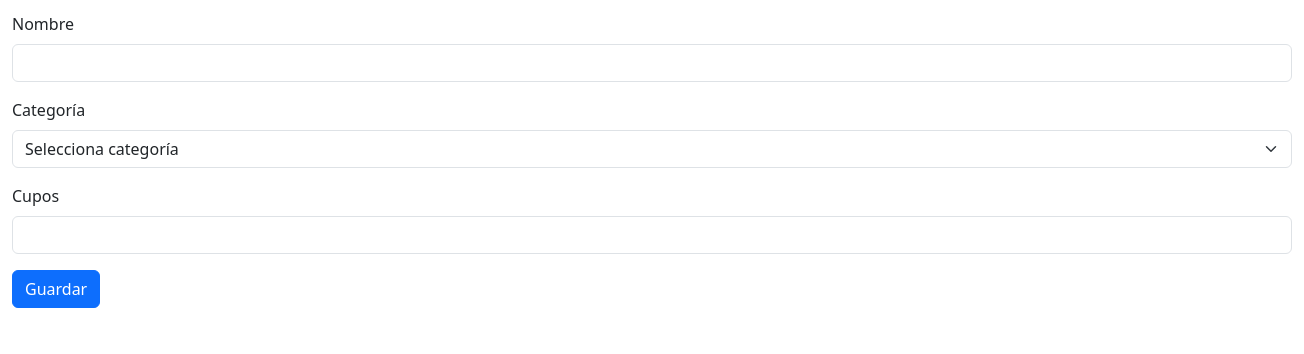
Test case: FormularioActividad › rechaza un número negativo de cupos
Type "Taller de prueba" into the field labelled "Nombre" at x=652, y=63, box [12,44,1292,82]
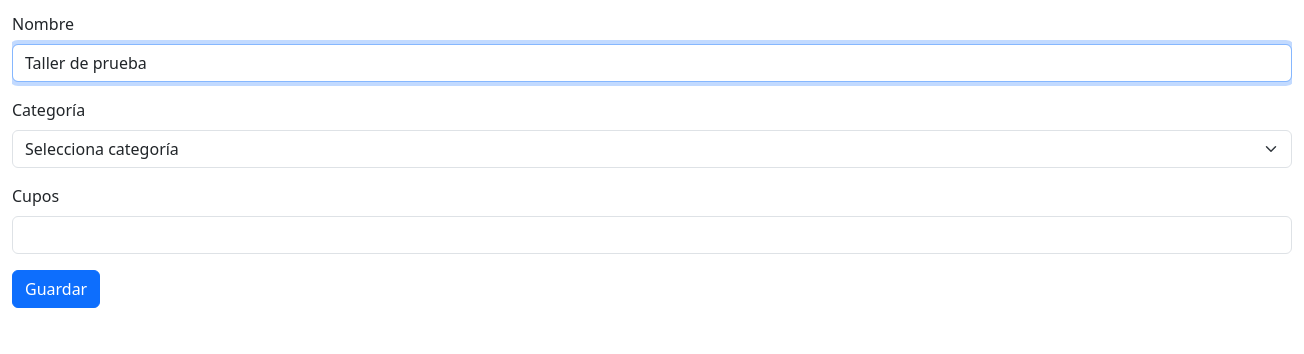
Select "Cultura" in the dropdown labelled "Categoría" at x=652, y=149, box [12,130,1292,168]
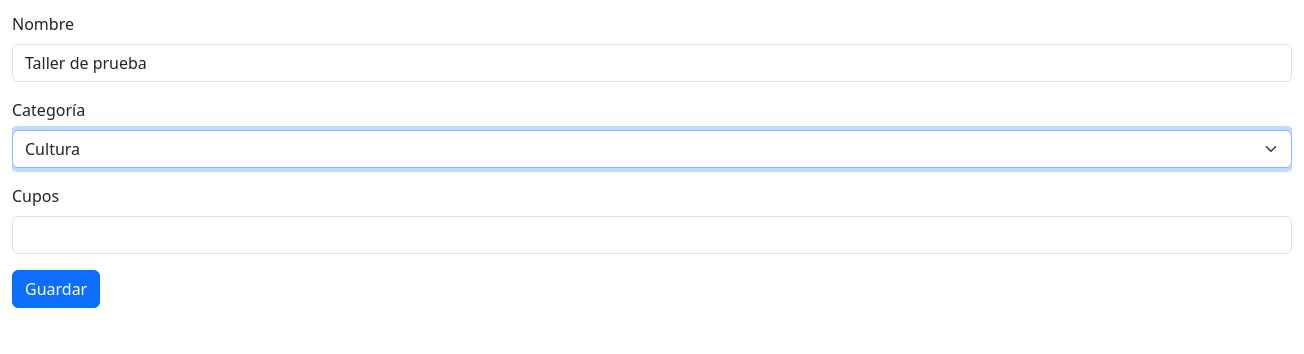
Type "-1" into the number field labelled "Cupos" at x=652, y=235, box [12,216,1292,254]
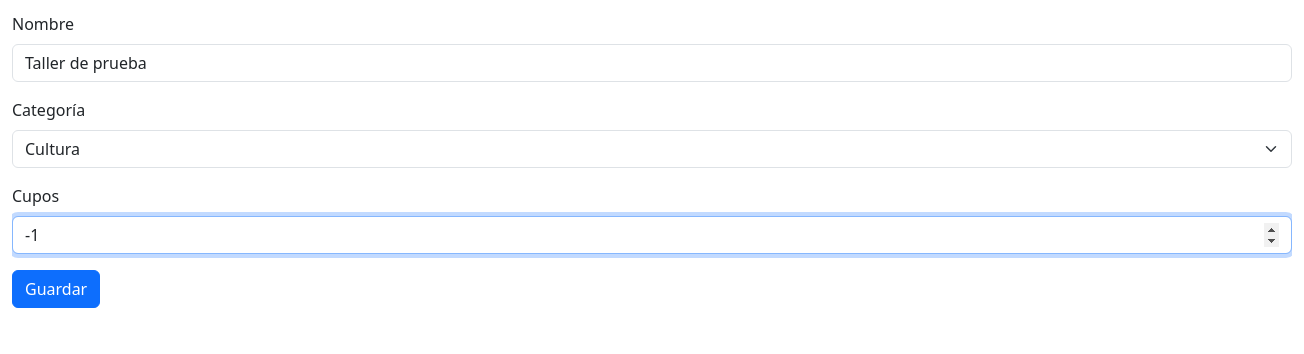
Click the button "Guardar" at x=56, y=289, box [12,270,100,308]
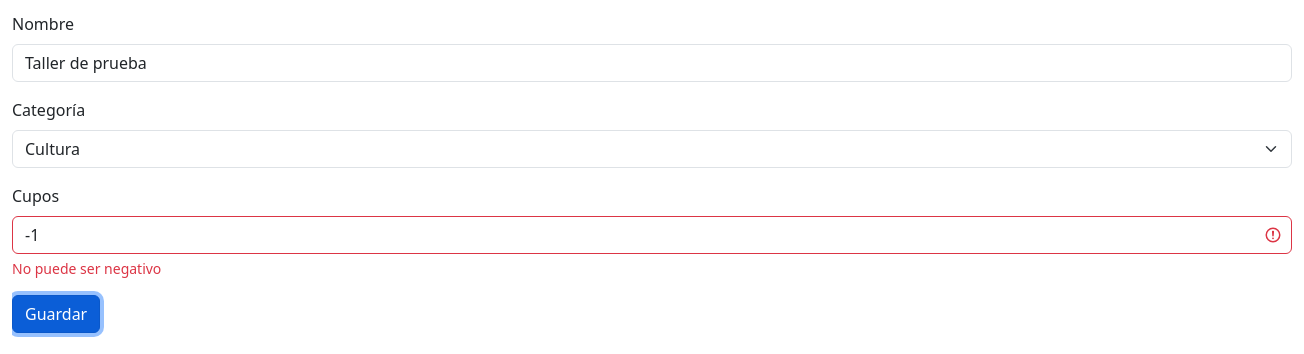
expect the text "No puede ser negativo" is shown: met, box [12,259,161,278]
